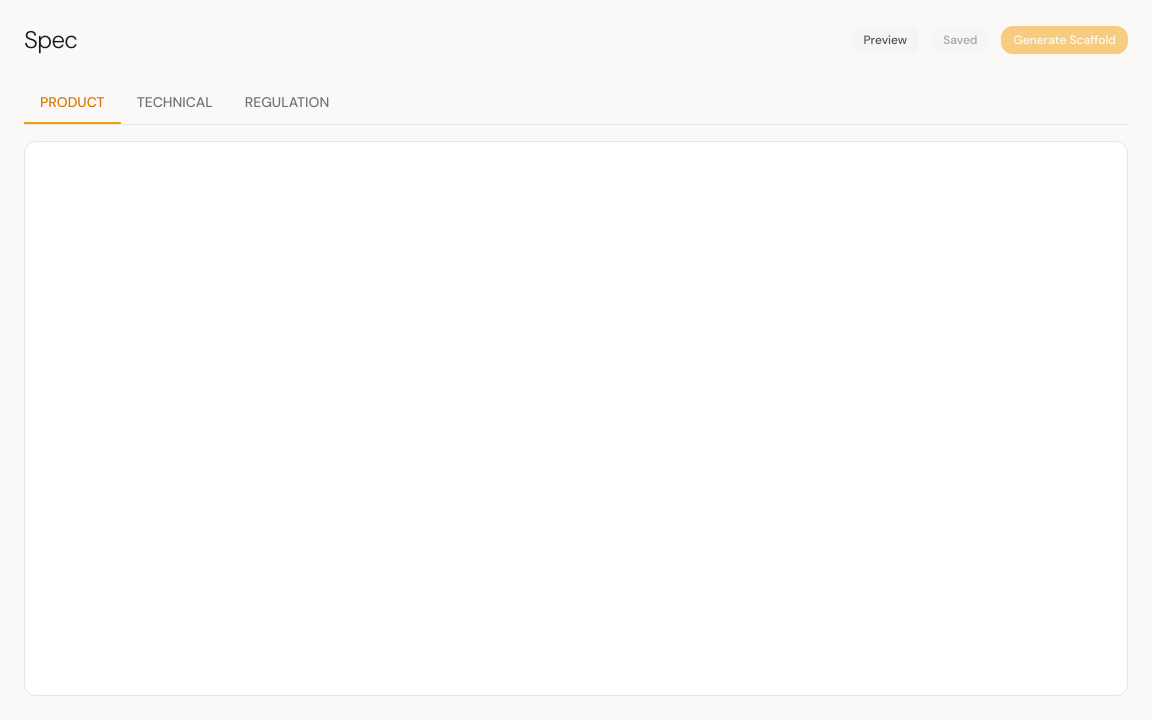
Test case: SpecPage › Generate Scaffold › should show progress messages during generation
What coordinates should you click on to do the following:
click the tab "TECHNICAL"
I would click on:
 (175, 102)
Its box is x1=121 y1=80 x2=229 y2=124.
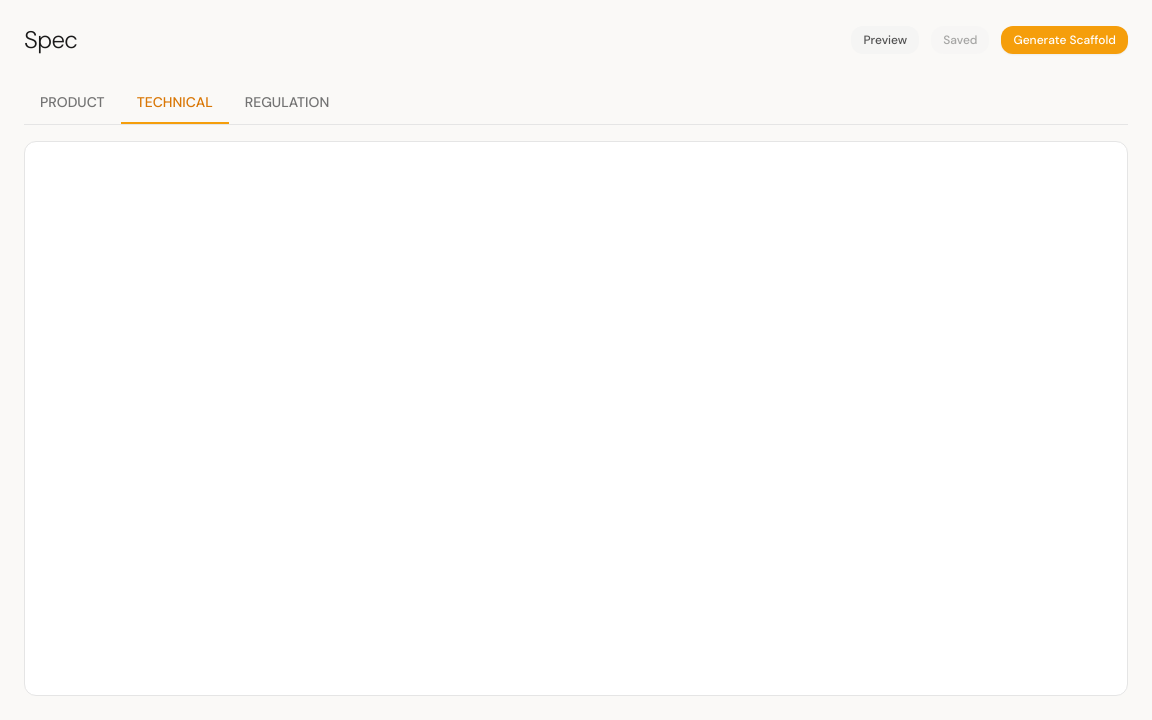
Check: the button "Generate Scaffold" is enabled
What coordinates should you click on to do the following:
click the button "Generate Scaffold"
I would click on:
 (1065, 40)
Its box is x1=1002 y1=26 x2=1128 y2=54.
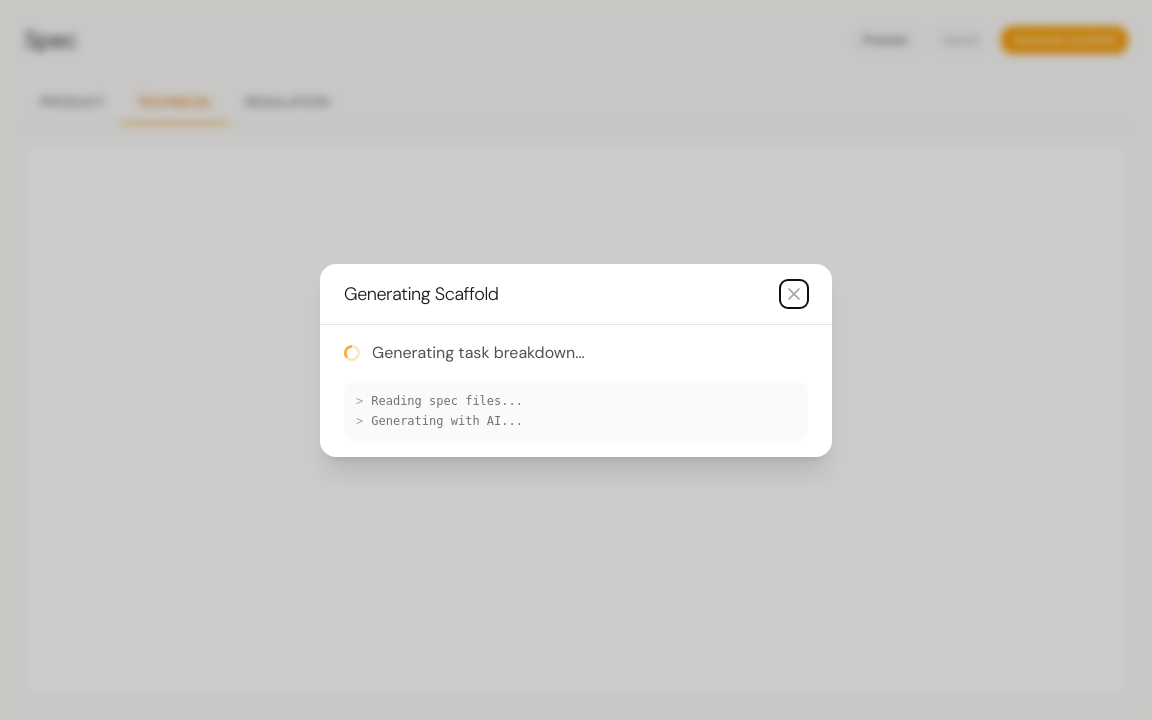
Check: the text "Reading spec files..." is shown, box x1=371 y1=392 x2=523 y2=408
Check: the text "Generating with AI..." is shown, box x1=371 y1=412 x2=523 y2=428
